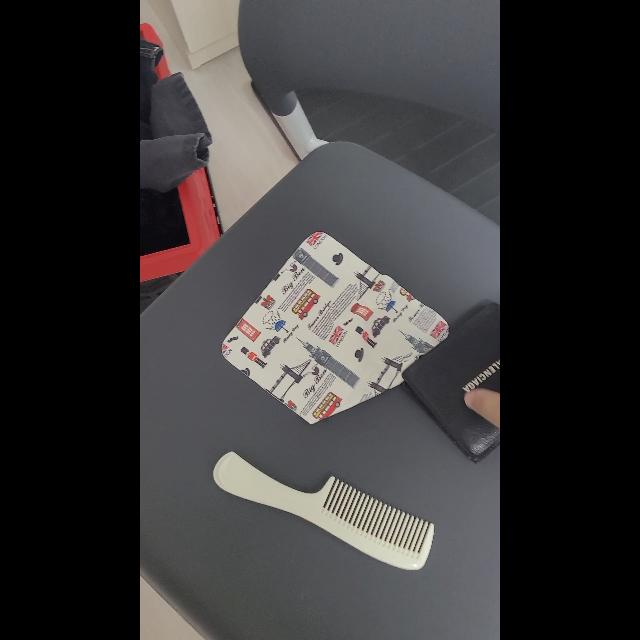COMB: (213, 451, 435, 571)
Glasses cleaning cloth: (220, 232, 450, 424)
WALLET: (400, 302, 500, 464)
